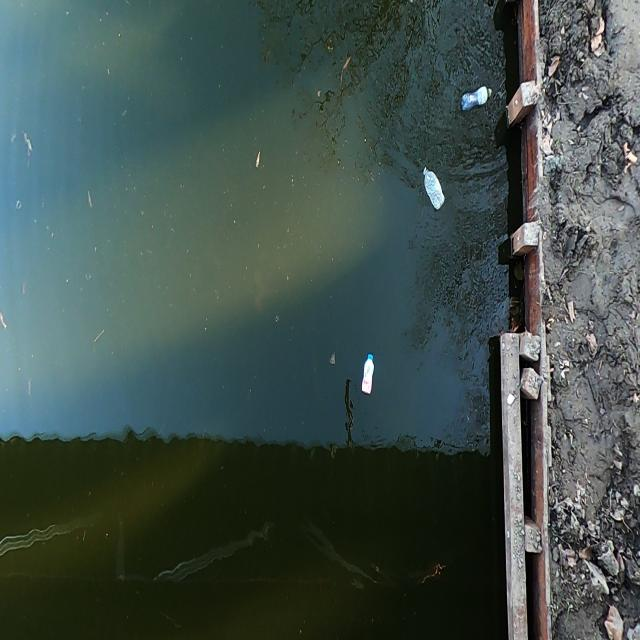Bouteille plastique: (424, 167, 444, 210), (462, 87, 492, 108), (362, 354, 373, 394)
